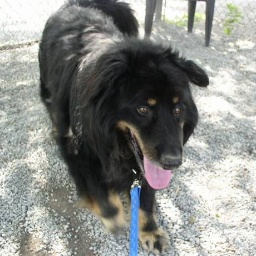dog: (32, 2, 195, 243)
